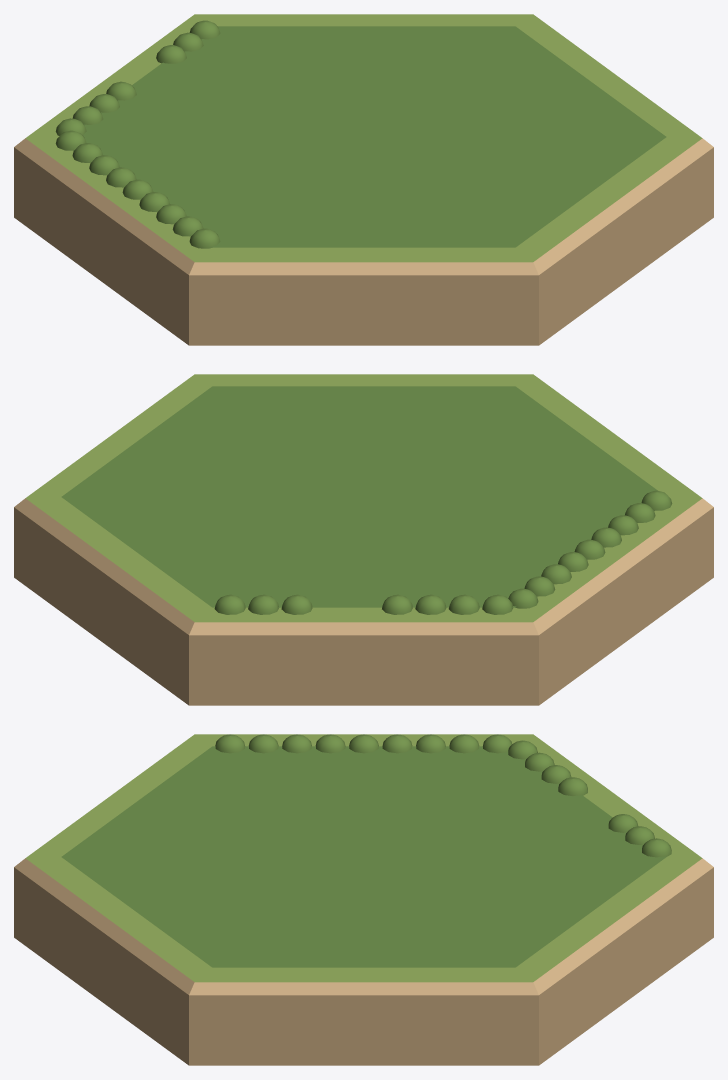
Rendered from tile_crop_3.fbx.
3 renders of one model, top to bottom at view 1: azimuth 30°, elevation 25°; view 2: azimuth 150°, elevation 25°; view 3: azimuth 270°, elevation 25°, orthographic.
Visible parts, largest first — view 1: tile_crop_3; view 2: tile_crop_3; view 3: tile_crop_3.
Boxes of the visible parts, x1,y1,x2,y2 form: tile_crop_3: (14,14,713,345); tile_crop_3: (14,374,713,705); tile_crop_3: (14,734,713,1065).
Size of the model in its own units: 1.73 by 0.2882 by 2.
